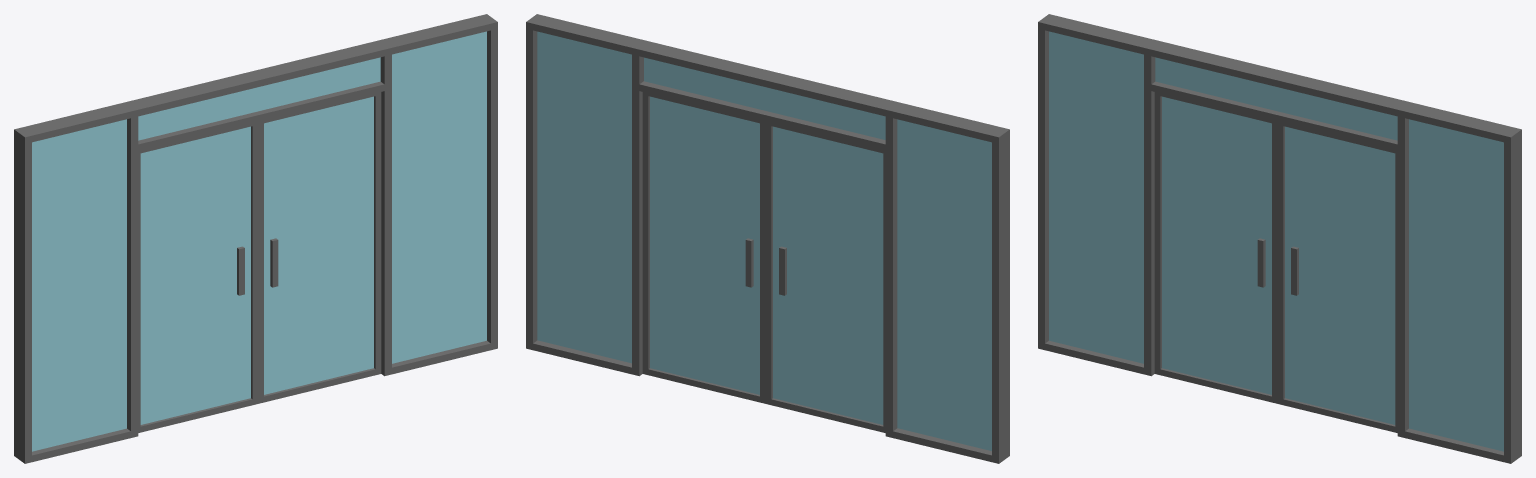
File: Door_Entrance.fbx
3 views of the same model, side by side, from view 1: azimuth 30°, elevation 25°; view 2: azimuth 150°, elevation 25°; view 3: azimuth 330°, elevation 25° (orthographic).
Parts seen in each view (by area): view 1: Door_Entrance_Frame, Door_Right, Door_Left; view 2: Door_Entrance_Frame, Door_Right, Door_Left; view 3: Door_Entrance_Frame, Door_Left, Door_Right.
Part boxes in pixels (left/top/right/bottom): Door_Entrance_Frame: left=14, top=14, right=497, bottom=463; Door_Right: left=258, top=92, right=381, bottom=403; Door_Left: left=138, top=122, right=258, bottom=432; Door_Entrance_Frame: left=526, top=14, right=1009, bottom=463; Door_Right: left=642, top=92, right=765, bottom=403; Door_Left: left=765, top=122, right=885, bottom=432; Door_Entrance_Frame: left=1038, top=14, right=1521, bottom=463; Door_Left: left=1154, top=92, right=1277, bottom=403; Door_Right: left=1277, top=122, right=1397, bottom=432.
Bounding box in the file's own units: 422 × 279 × 16.89.
